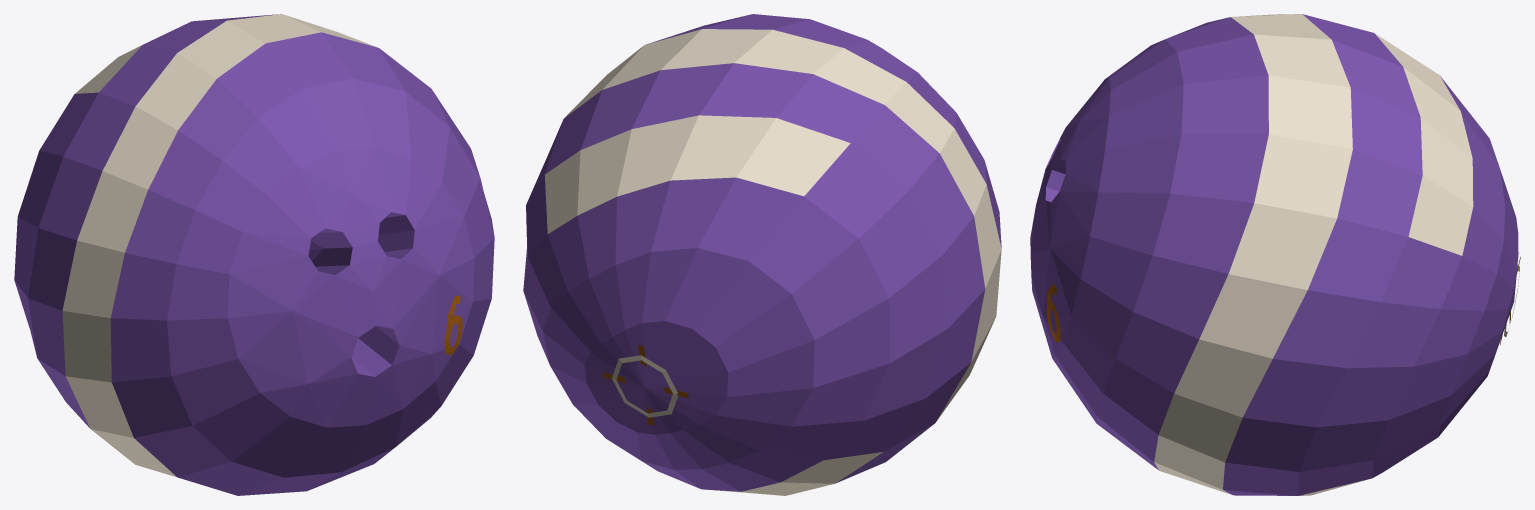
The model's file is cozy_bowling_ball_06lb.obj.
The picture shows the model from 3 angles, left to right: view 1: azimuth 30°, elevation 25°; view 2: azimuth 150°, elevation 25°; view 3: azimuth 270°, elevation 25°; orthographic projection.
Visible parts, largest first — view 1: Ball_06lb_Mesh; view 2: Ball_06lb_Mesh; view 3: Ball_06lb_Mesh.
Part boxes in pixels (x1,y1,x2,y2): Ball_06lb_Mesh: [14, 14, 494, 495]; Ball_06lb_Mesh: [523, 14, 1001, 495]; Ball_06lb_Mesh: [1030, 14, 1520, 495].
Bounding box in the file's own units: 0.2161 × 0.2161 × 0.2171.
